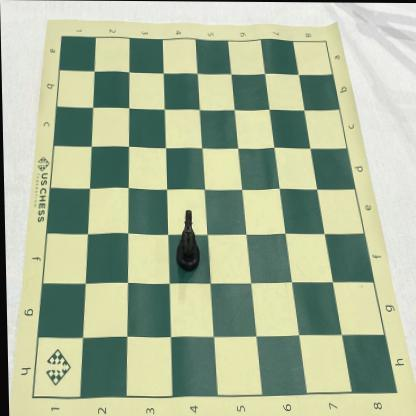black-knight: (174, 208, 200, 272)
